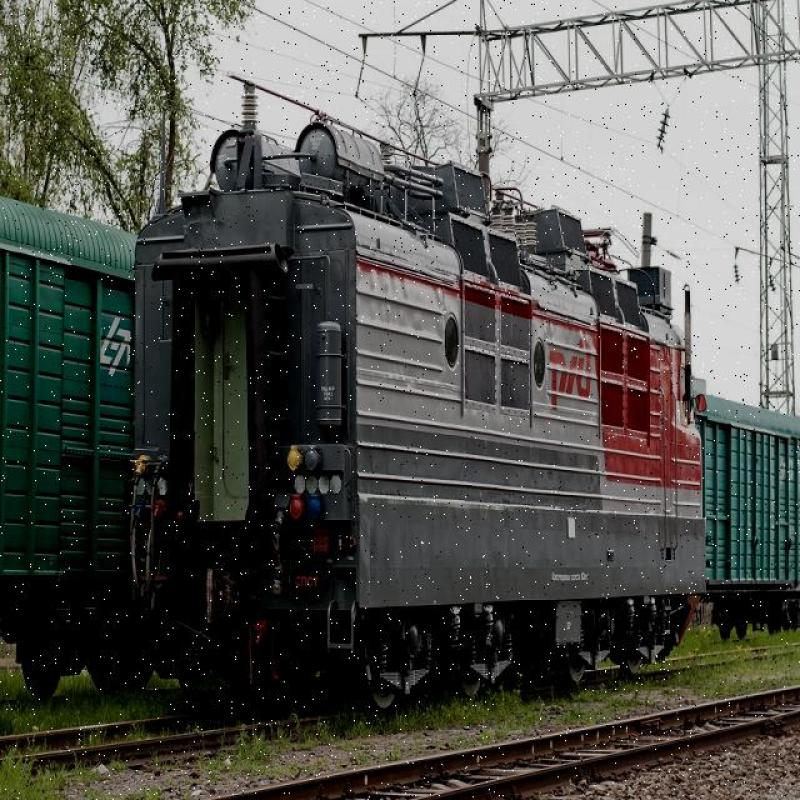train: (138, 176, 704, 675)
